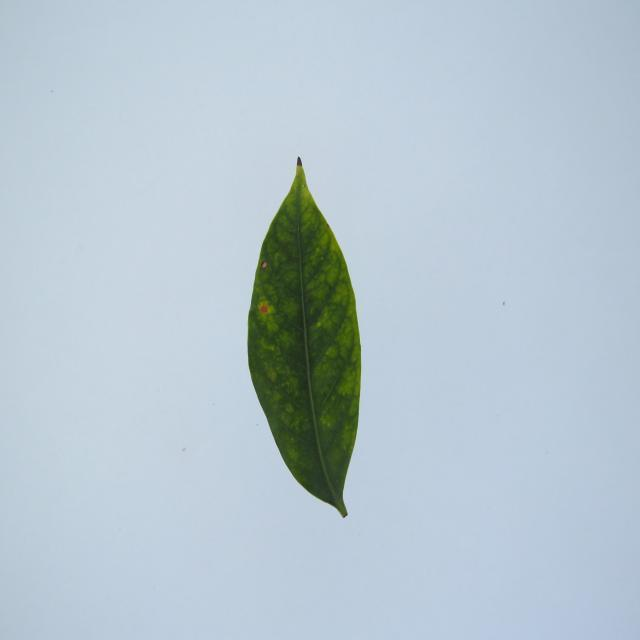DeficienciaNutricional-Hierro: (248, 158, 361, 517)
